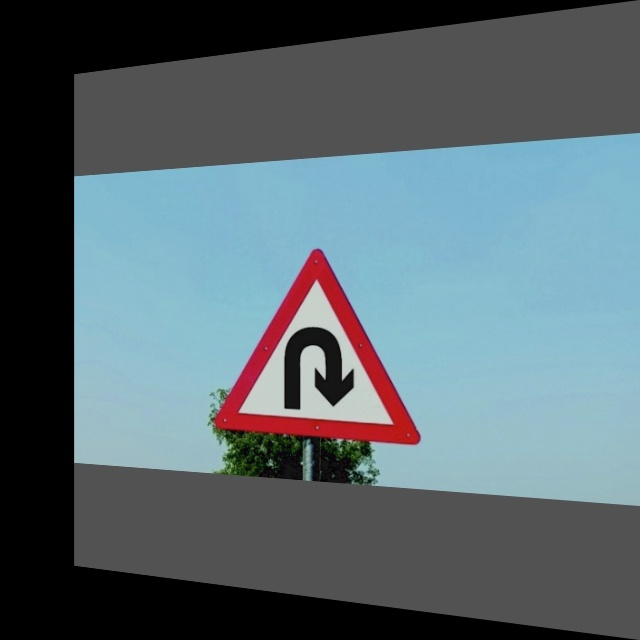Right_Hair_Pin_Bend: (220, 244, 425, 444)
